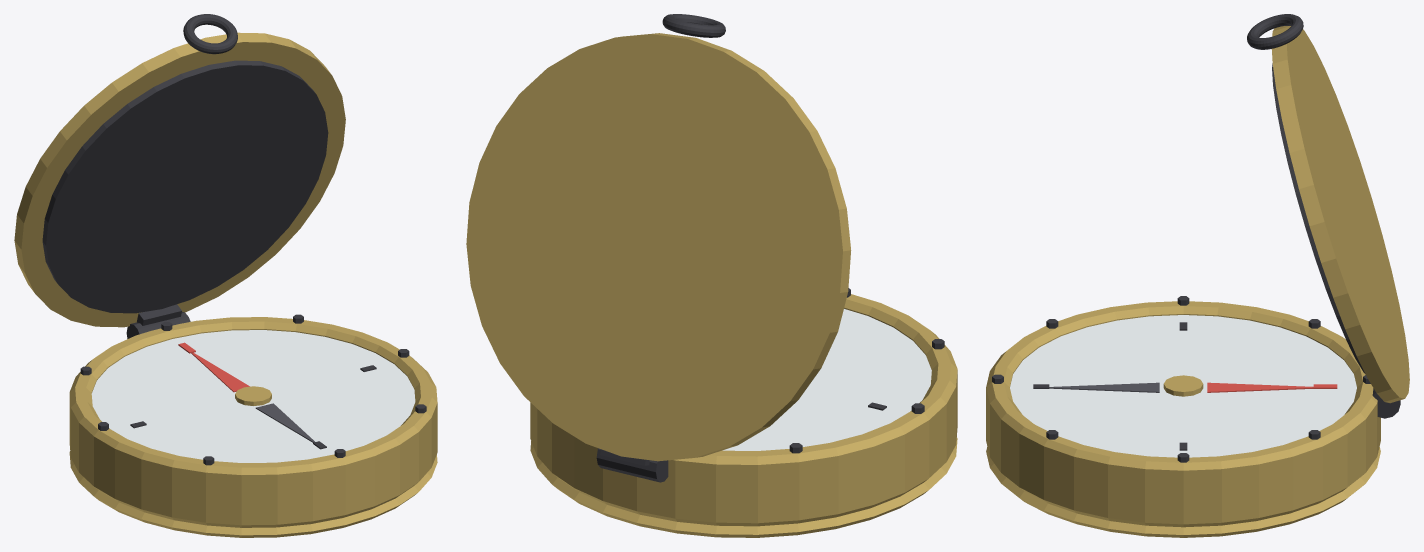
Rendered from compass.fbx.
3 views of the same model, side by side, from view 1: azimuth 30°, elevation 25°; view 2: azimuth 150°, elevation 25°; view 3: azimuth 270°, elevation 25° (orthographic). The views are drawn at different scales.
Visible parts, largest first — view 1: Compass_Lid, Compass_Base, Compass_Glass_Cover, Compass_Needle, Compass_Hinge; view 2: Compass_Lid, Compass_Base, Compass_Glass_Cover, Compass_Hinge; view 3: Compass_Base, Compass_Glass_Cover, Compass_Lid, Compass_Needle.
Part boxes in pixels (box(x1,y1,x2,y2)): Compass_Lid: box(14, 14, 345, 327); Compass_Base: box(69, 317, 437, 537); Compass_Glass_Cover: box(91, 330, 415, 462); Compass_Needle: box(191, 352, 314, 442); Compass_Hinge: box(126, 311, 190, 338); Compass_Lid: box(466, 14, 851, 465); Compass_Base: box(530, 294, 957, 537); Compass_Glass_Cover: box(722, 309, 931, 450); Compass_Hinge: box(596, 448, 668, 482); Compass_Base: box(986, 301, 1380, 537); Compass_Glass_Cover: box(1010, 315, 1356, 457); Compass_Lid: box(1247, 14, 1409, 403); Compass_Needle: box(1049, 375, 1313, 396).
Bounding box in the file's own units: 10 × 12.22 × 10.73.
